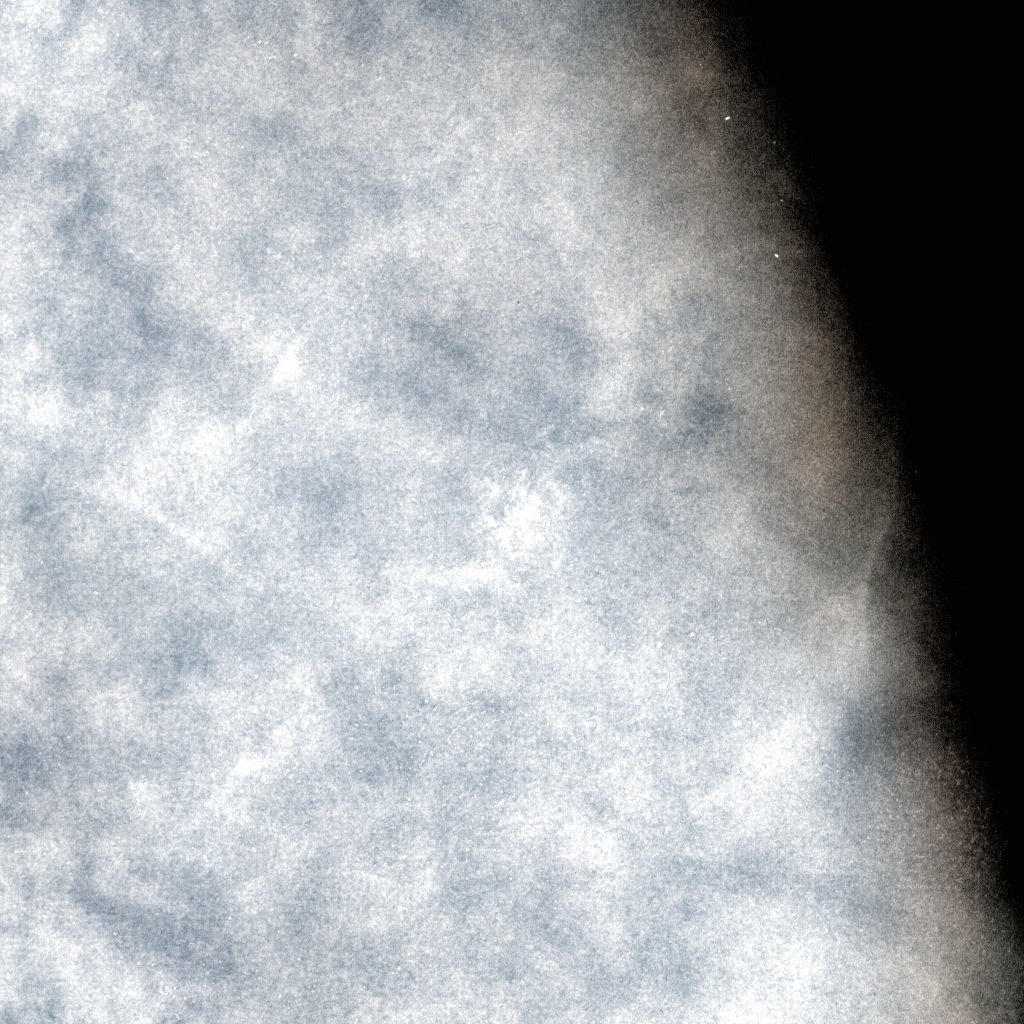tumor: (429, 444, 595, 580)
